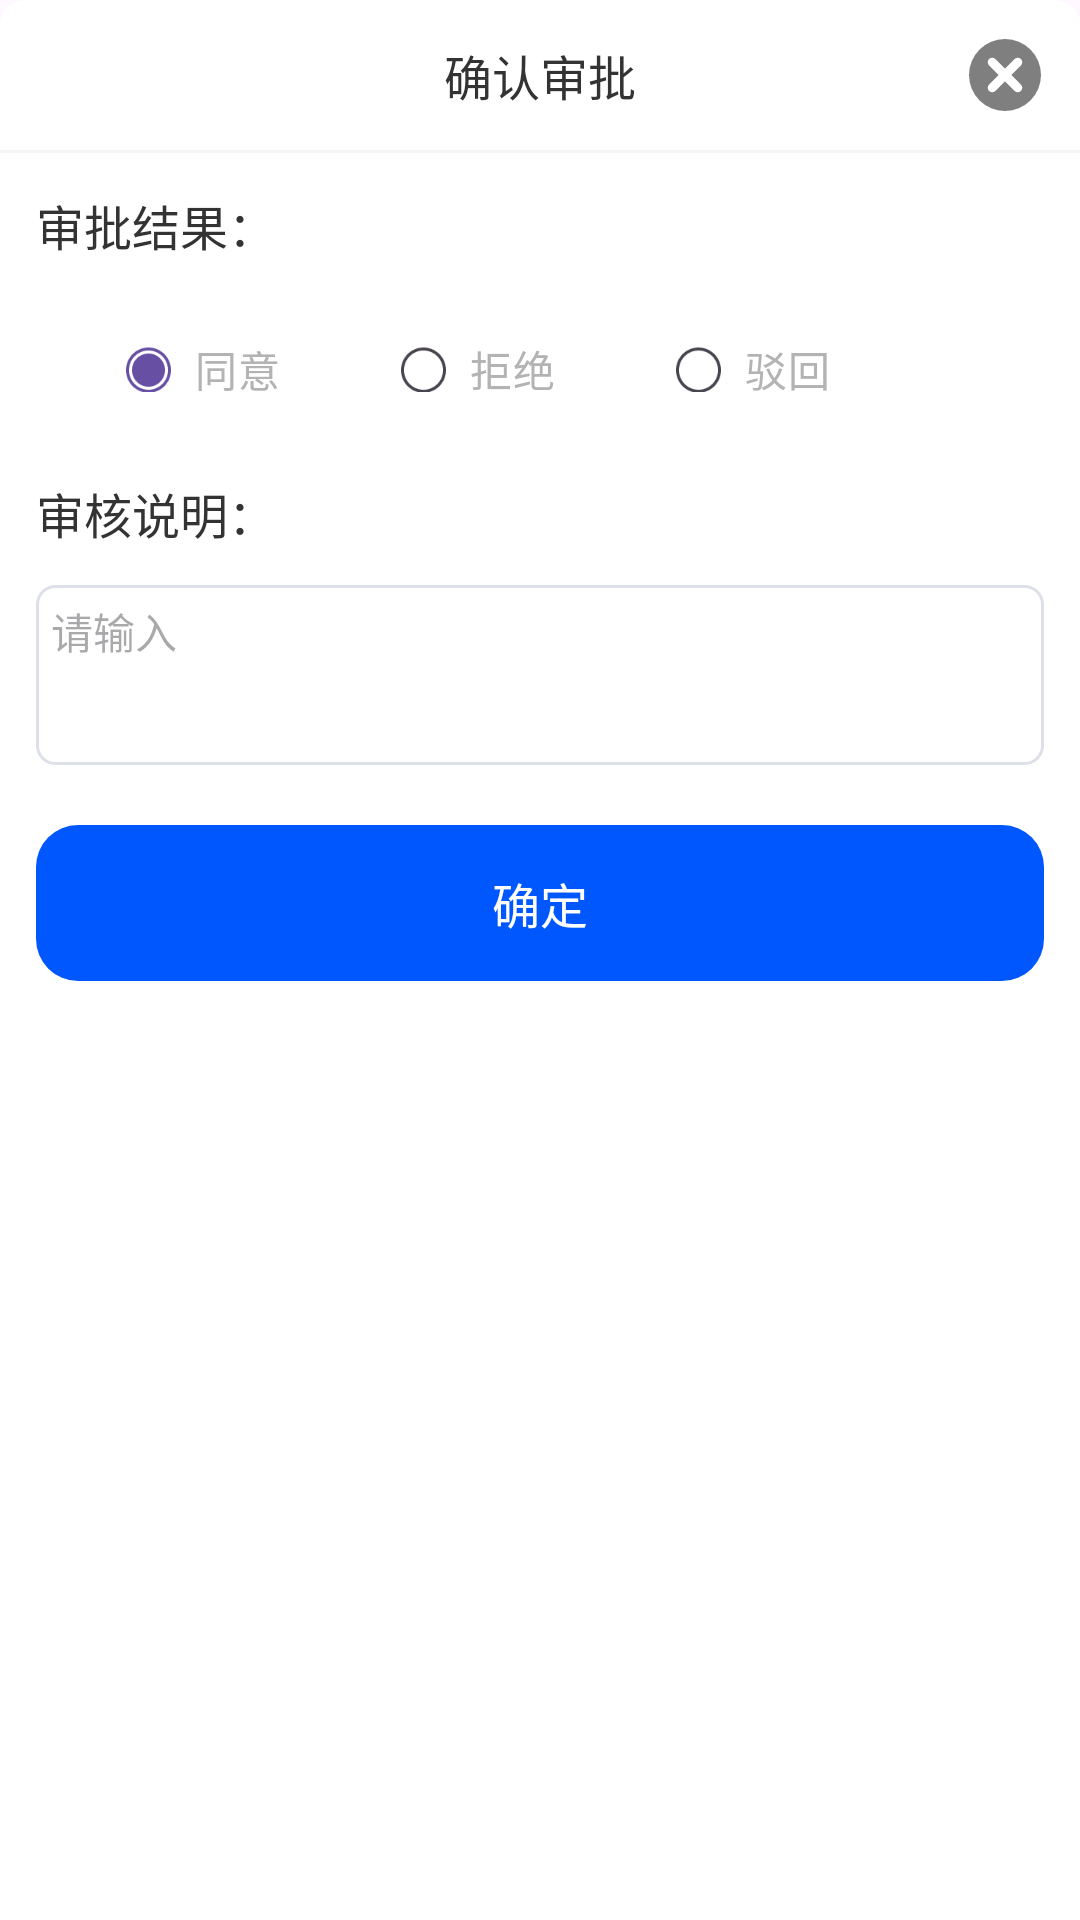

Named icons in this screenshot (1080*1920) and their bounding boxes, (x1, y1, x2, y2):
close: (969, 39, 1041, 111)
